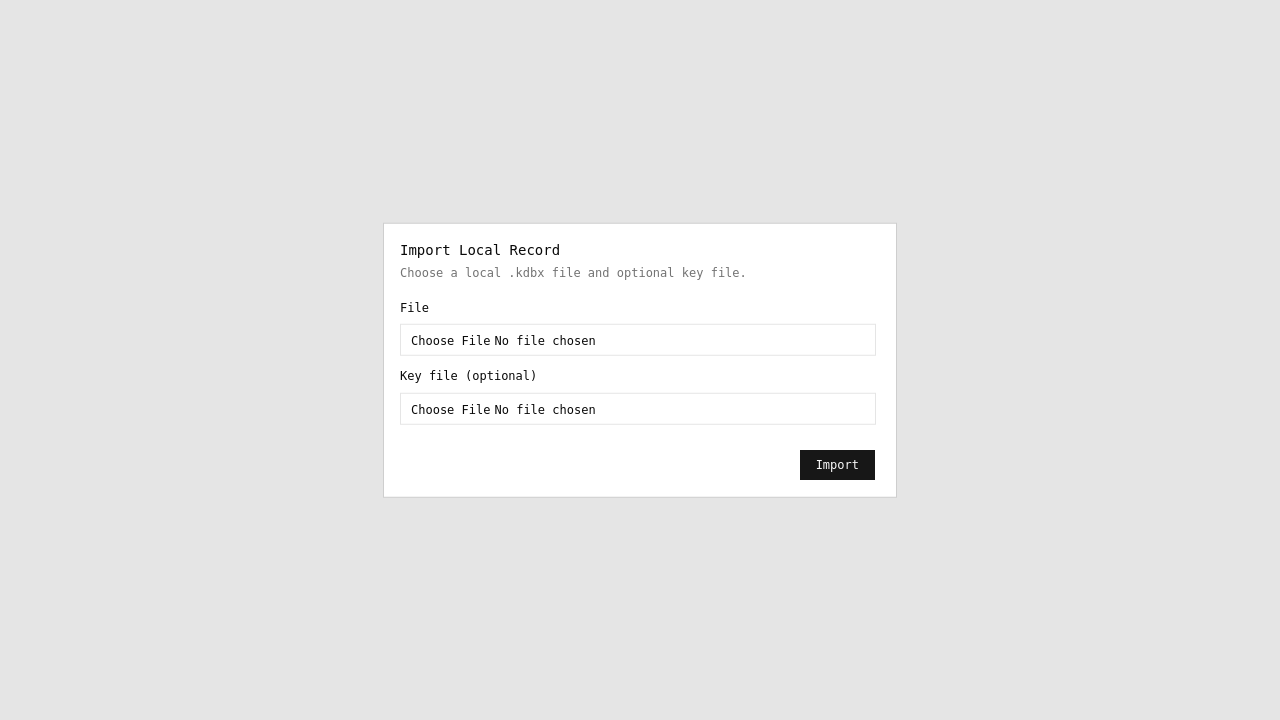
Test: import-local-dialog › ImportLocalDialog › requires a database file
This screenshot has width=1280, height=720.
Click the button "Import".
click(837, 464)  # box x1=799 y1=448 x2=876 y2=480
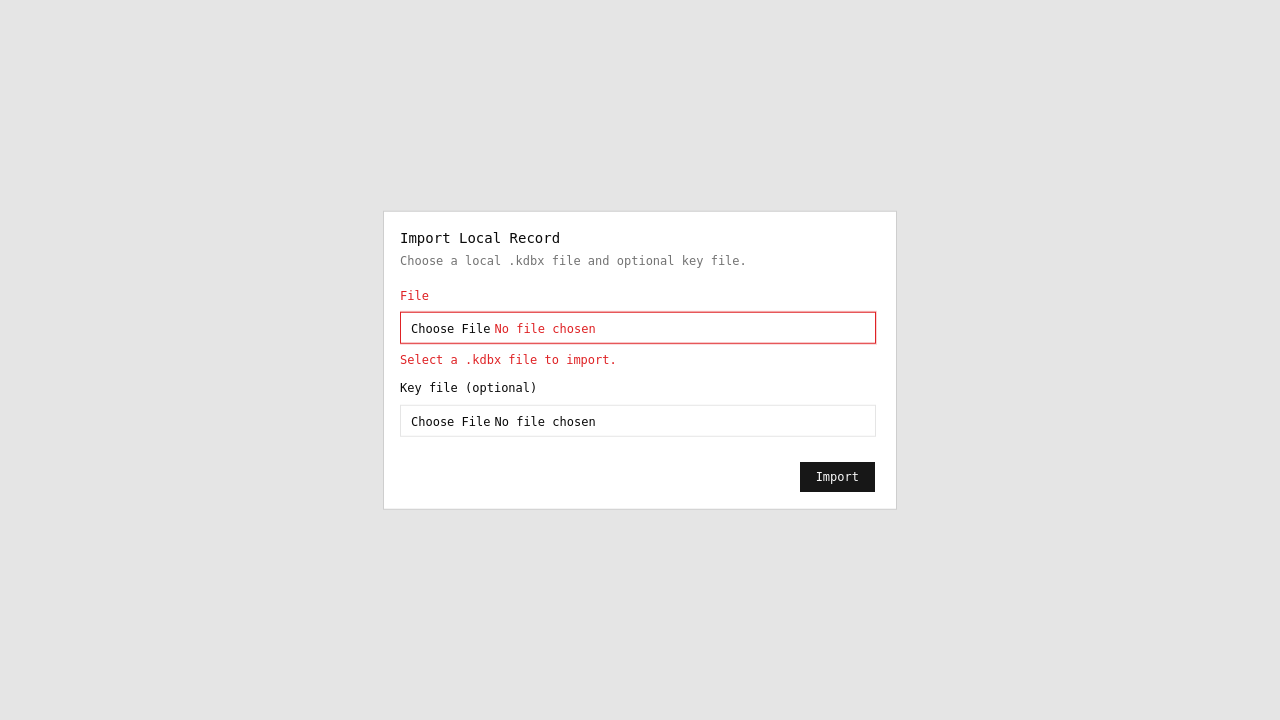
Check: the text "Select a .kdbx file to import." is shown, box x1=400 y1=353 x2=617 y2=367
